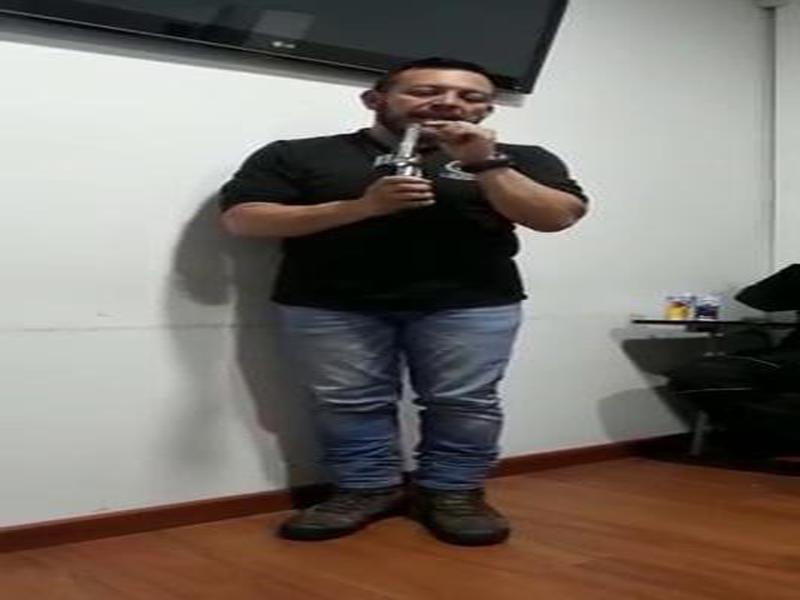Revolver: (372, 103, 457, 213)
